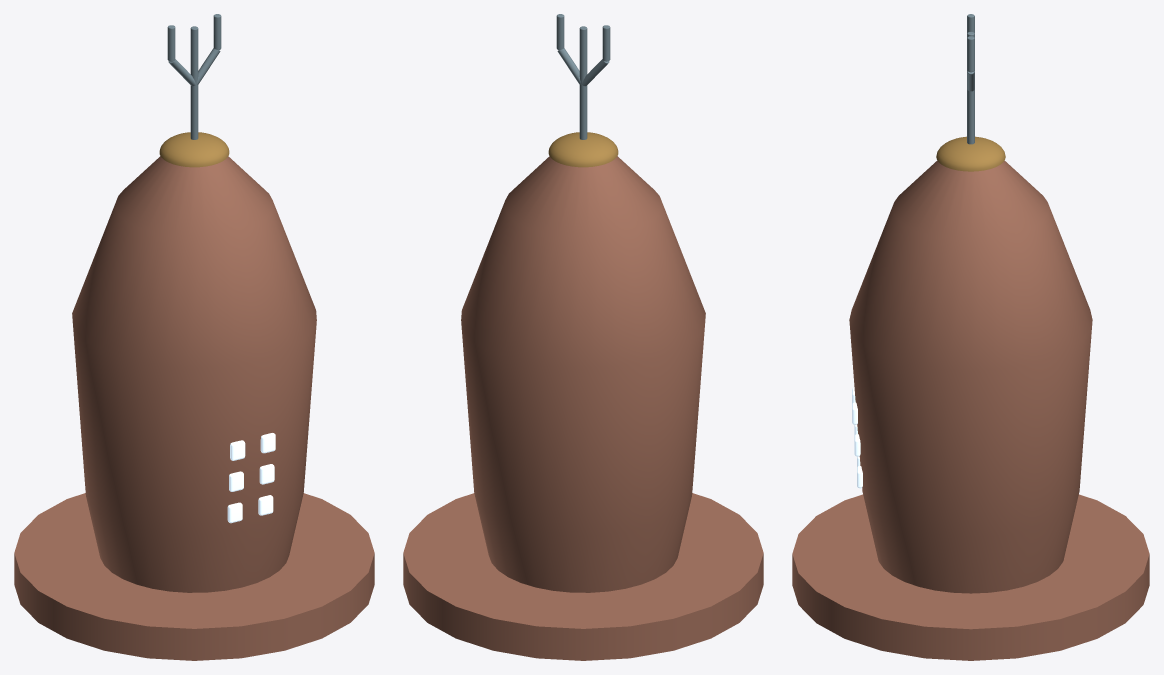
3 renders of one model, left to right at view 1: azimuth 30°, elevation 25°; view 2: azimuth 150°, elevation 25°; view 3: azimuth 270°, elevation 25°, orthographic.
Visible parts, largest first — view 1: Bulb shaped chamber, Foundation drum, Tower crown, Aerial stem; view 2: Bulb shaped chamber, Foundation drum, Tower crown, Aerial stem; view 3: Bulb shaped chamber, Foundation drum, Tower crown.
Part boxes in pixels (x1,y1,x2,y2): Bulb shaped chamber: (72,156,316,592); Foundation drum: (14,493,374,660); Tower crown: (159,132,229,167); Aerial stem: (190,26,198,139); Bulb shaped chamber: (461,156,705,592); Foundation drum: (403,493,763,660); Tower crown: (548,132,618,167); Aerial stem: (579,26,587,139); Bulb shaped chamber: (849,160,1092,593); Foundation drum: (792,494,1149,660); Tower crown: (936,136,1005,171).
Bounding box in the file's own units: 2.04 × 3.52 × 2.04.
